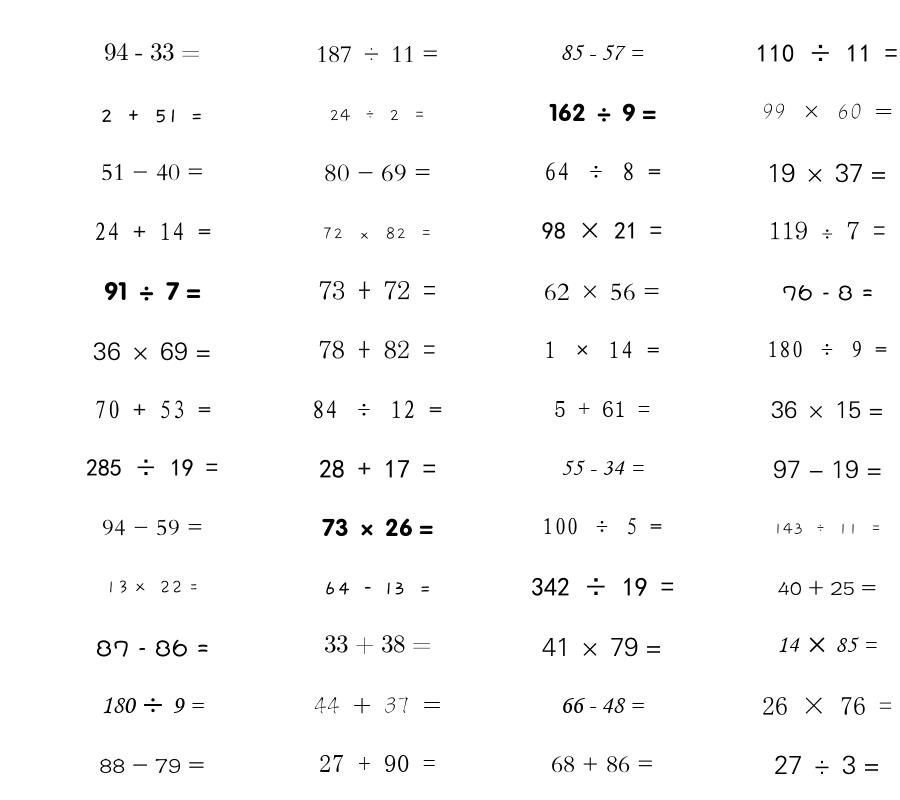MQ: (531, 577, 674, 596), (756, 44, 898, 63), (312, 400, 442, 419), (767, 163, 887, 183), (542, 637, 662, 657), (319, 280, 436, 300), (762, 697, 892, 715), (314, 696, 441, 714), (86, 459, 218, 476), (93, 342, 211, 361), (544, 162, 661, 181), (94, 222, 211, 241), (769, 221, 886, 240), (319, 340, 436, 359), (94, 400, 211, 419), (319, 459, 436, 478), (767, 340, 887, 358), (542, 517, 662, 535), (771, 400, 884, 419), (324, 635, 431, 655), (774, 755, 880, 775), (322, 518, 433, 537), (762, 103, 893, 119), (316, 46, 439, 63), (544, 283, 660, 301), (544, 341, 660, 359), (773, 460, 882, 479), (542, 222, 662, 239), (96, 639, 209, 657), (549, 103, 656, 122), (319, 755, 436, 772), (104, 281, 201, 301), (324, 164, 431, 182), (101, 164, 204, 181), (101, 697, 204, 714), (551, 756, 654, 773), (104, 43, 200, 61), (102, 519, 203, 536), (777, 637, 877, 653), (99, 758, 205, 773), (778, 580, 876, 596), (782, 284, 873, 301), (554, 401, 650, 417), (323, 581, 432, 595), (100, 109, 204, 123), (322, 227, 433, 240), (560, 44, 644, 61), (560, 697, 644, 713), (105, 580, 199, 594), (773, 523, 882, 535), (329, 109, 426, 122), (561, 460, 644, 475)
